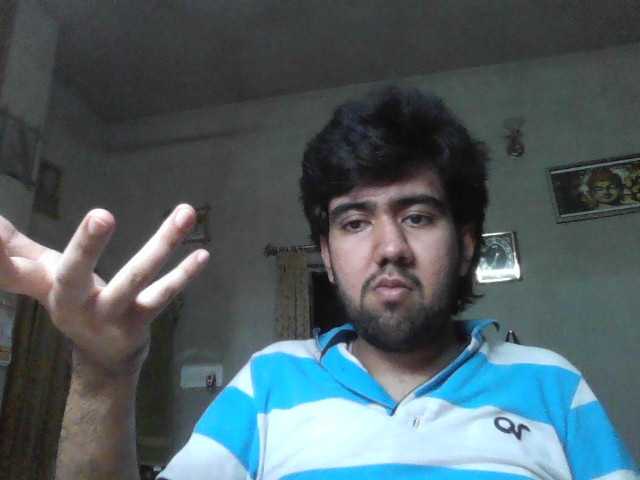What: (1, 195, 210, 370)
